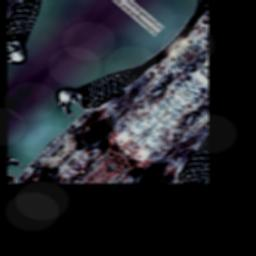Woodpecker: (45, 19, 175, 140)
